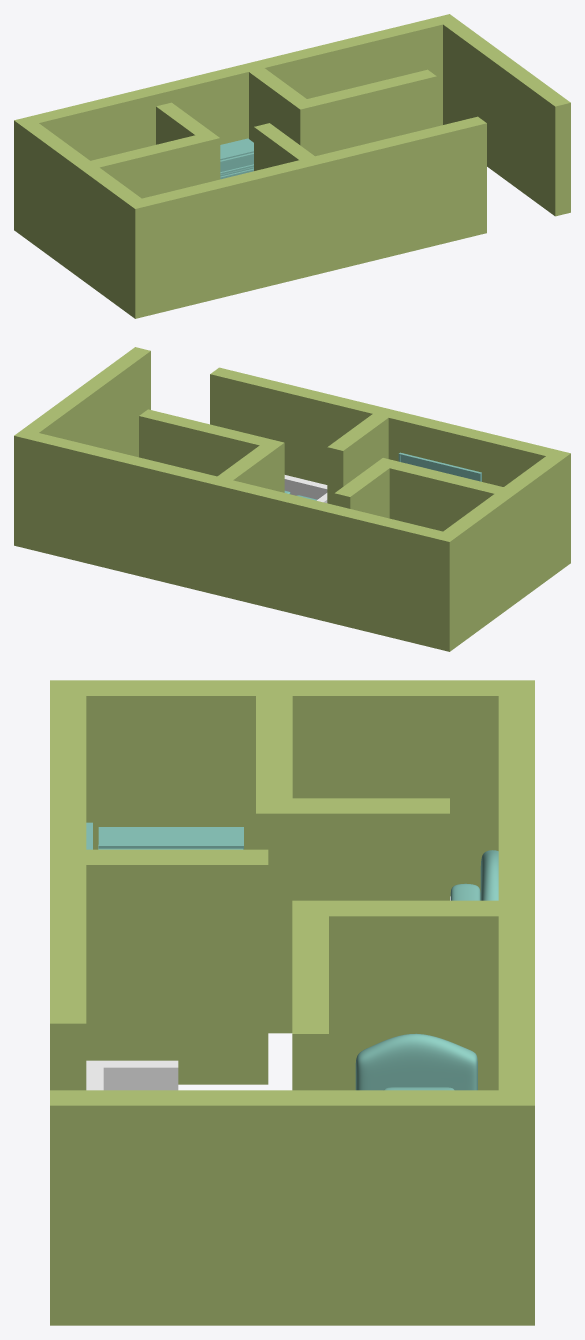
Rendered from room.obj.
The picture shows the model from 3 angles, top to bottom: view 1: azimuth 30°, elevation 25°; view 2: azimuth 150°, elevation 25°; view 3: azimuth 270°, elevation 25°; orthographic projection. The views are drawn at different scales.
Parts seen in each view (by area): view 1: Extrude, Cap_2, 立方体.4; view 2: Extrude, Cap_2, 画框, 立方体.1; view 3: Extrude, Cap_2, 立方体_2, 立方体.4_1, 立方体.2, 立方体_4.
Part boxes in pixels (x1,y1,x2,y2): Extrude: (14, 24, 570, 318); Cap_2: (14, 14, 570, 208); 立方体.4: (220, 138, 253, 176); Extrude: (14, 351, 570, 651); Cap_2: (14, 347, 570, 541); 画框: (398, 452, 481, 481); 立方体.1: (284, 475, 327, 499); Extrude: (50, 696, 534, 1325); Cap_2: (50, 680, 534, 1105); 立方体_2: (355, 1033, 477, 1090); 立方体.4_1: (98, 827, 243, 849); 立方体.2: (86, 1060, 178, 1090); 立方体_4: (480, 850, 498, 900).
Size of the model in its own units: 830 by 204 by 400.
